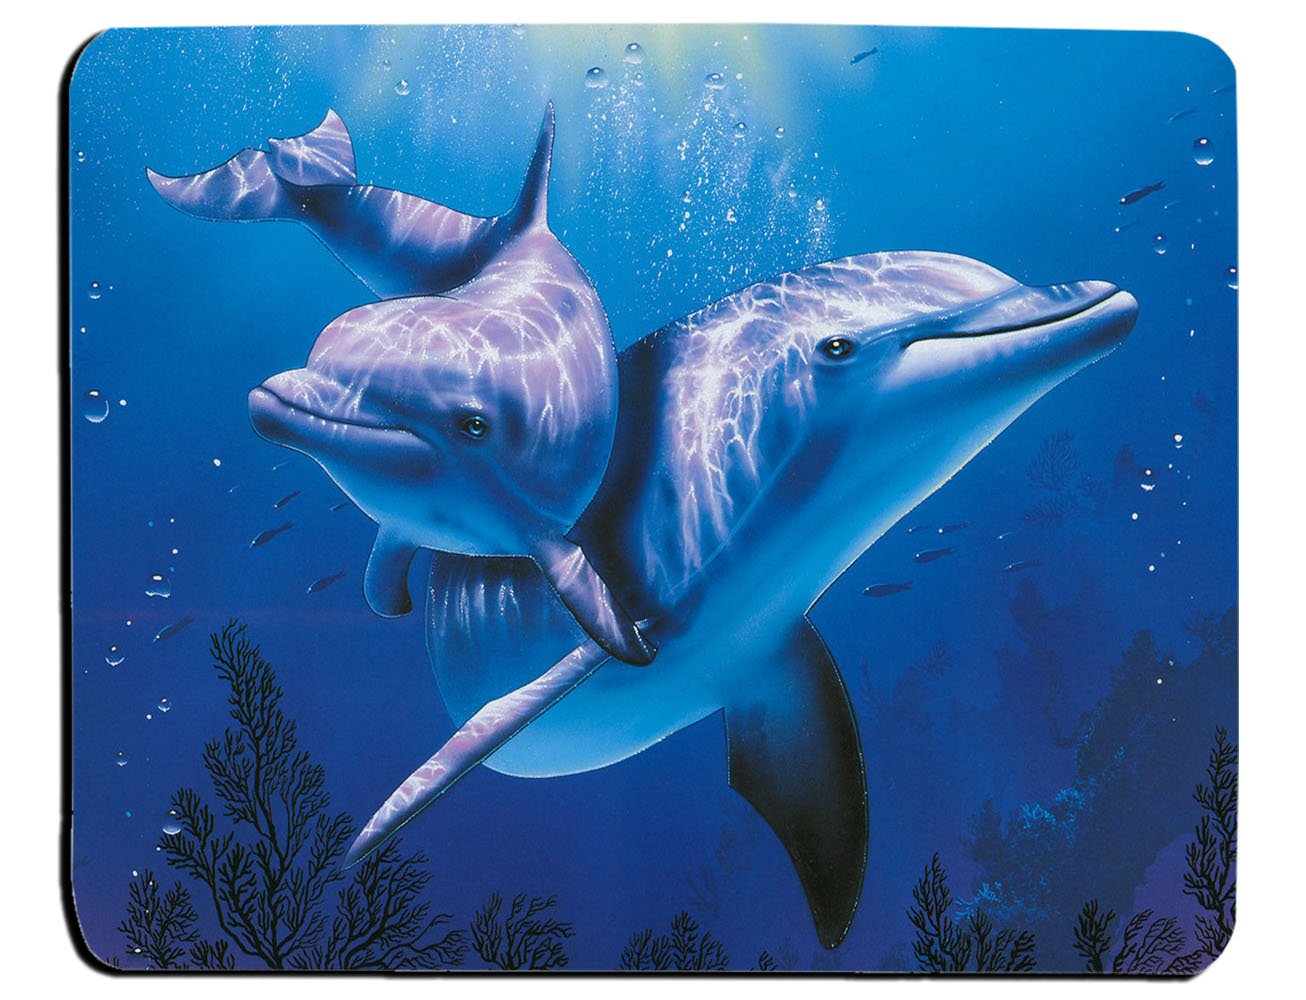dolphin: (388, 271, 1149, 822), (159, 139, 642, 545)
